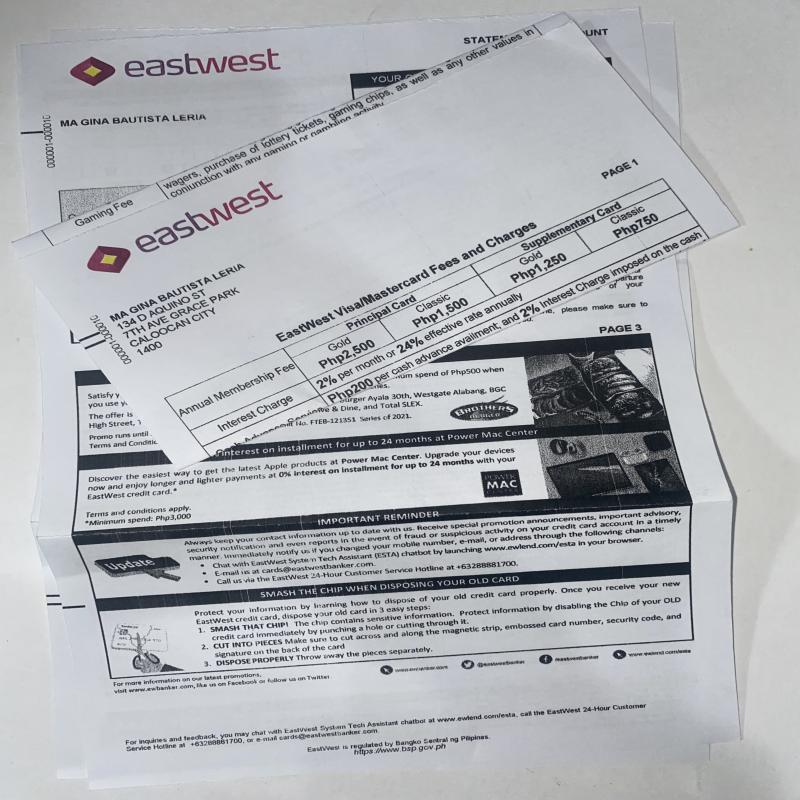paper: (14, 9, 745, 790), (12, 16, 744, 468)
